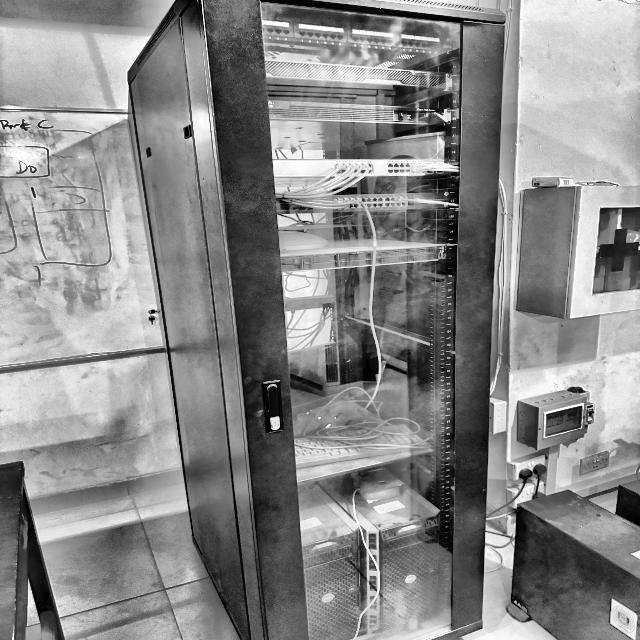server: (106, 0, 524, 640)
